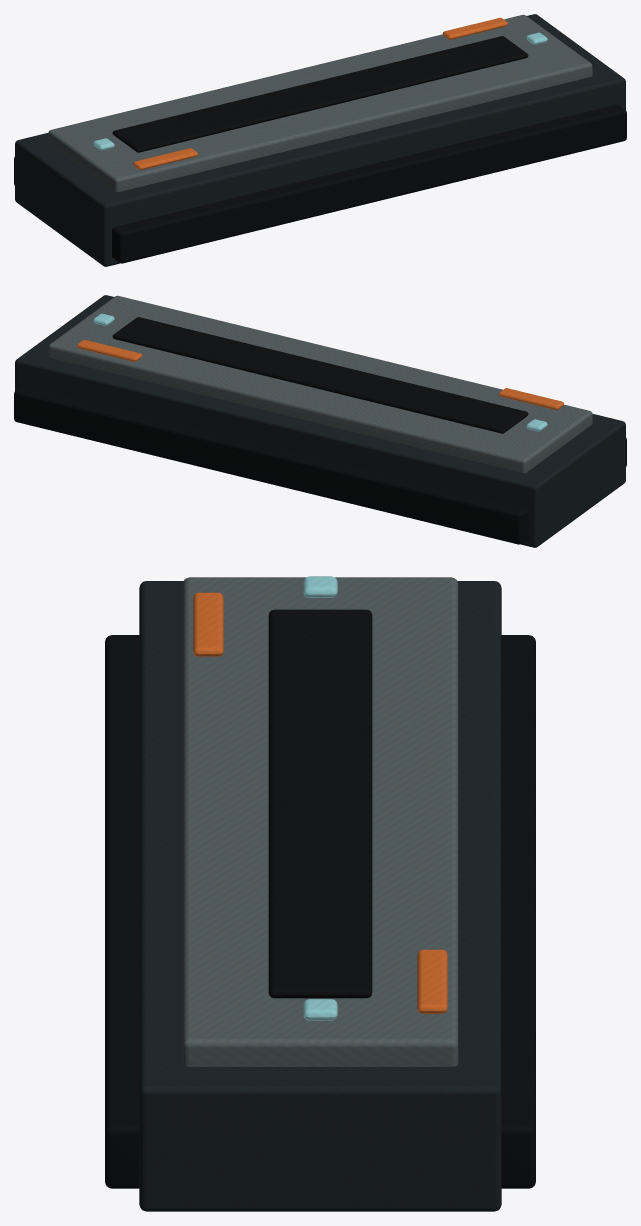
Rendered from FloorCableCover.glb.
3 views of the same model, one above another, from view 1: azimuth 30°, elevation 25°; view 2: azimuth 150°, elevation 25°; view 3: azimuth 270°, elevation 25° (orthographic). The views are drawn at different scales.
Visible parts, largest first — view 1: FloorCableCover_Mesh; view 2: FloorCableCover_Mesh; view 3: FloorCableCover_Mesh.
Part boxes in pixels (x1,y1,x2,y2): FloorCableCover_Mesh: [14, 14, 626, 266]; FloorCableCover_Mesh: [14, 295, 626, 547]; FloorCableCover_Mesh: [105, 576, 535, 1211].
Size of the model in its own units: 1.4 by 0.212 by 0.5.
Materials: 5 (5 with a texture image).
